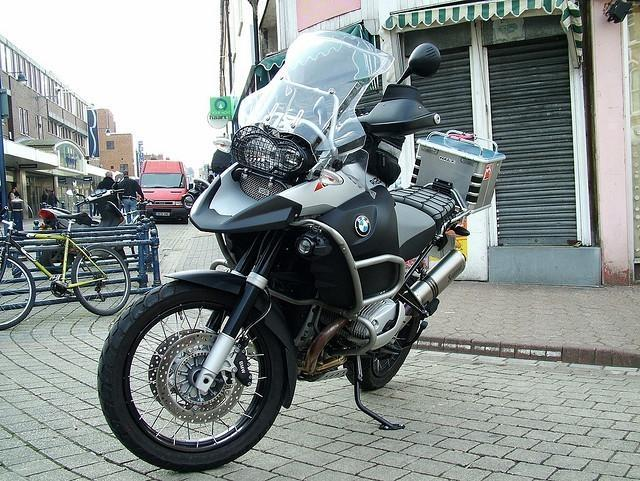bicycle: (0, 205, 133, 334), (140, 196, 154, 216)
motorcycle: (97, 29, 494, 472), (36, 188, 126, 266)
truck: (136, 160, 190, 224)
